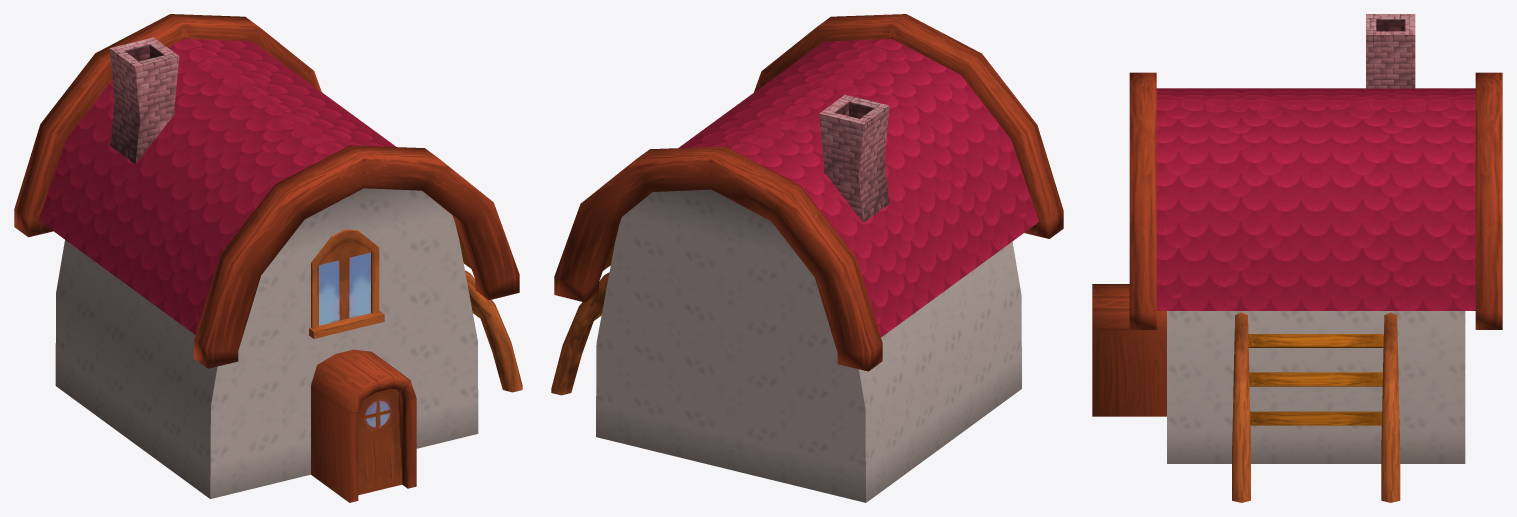
The model's file is House.fbx.
3 views of the same model, side by side, from view 1: azimuth 30°, elevation 25°; view 2: azimuth 150°, elevation 25°; view 3: azimuth 270°, elevation 25° (orthographic). The views are drawn at different scales.
Visible parts, largest first — view 1: Object004; view 2: Object004; view 3: Object004.
Part boxes in pixels (x1,y1,x2,y2): Object004: (14, 14, 522, 502); Object004: (551, 14, 1063, 502); Object004: (1092, 14, 1502, 502).
Size of the model in its own units: 556 by 499 by 550.
1 material, 1 textured.
